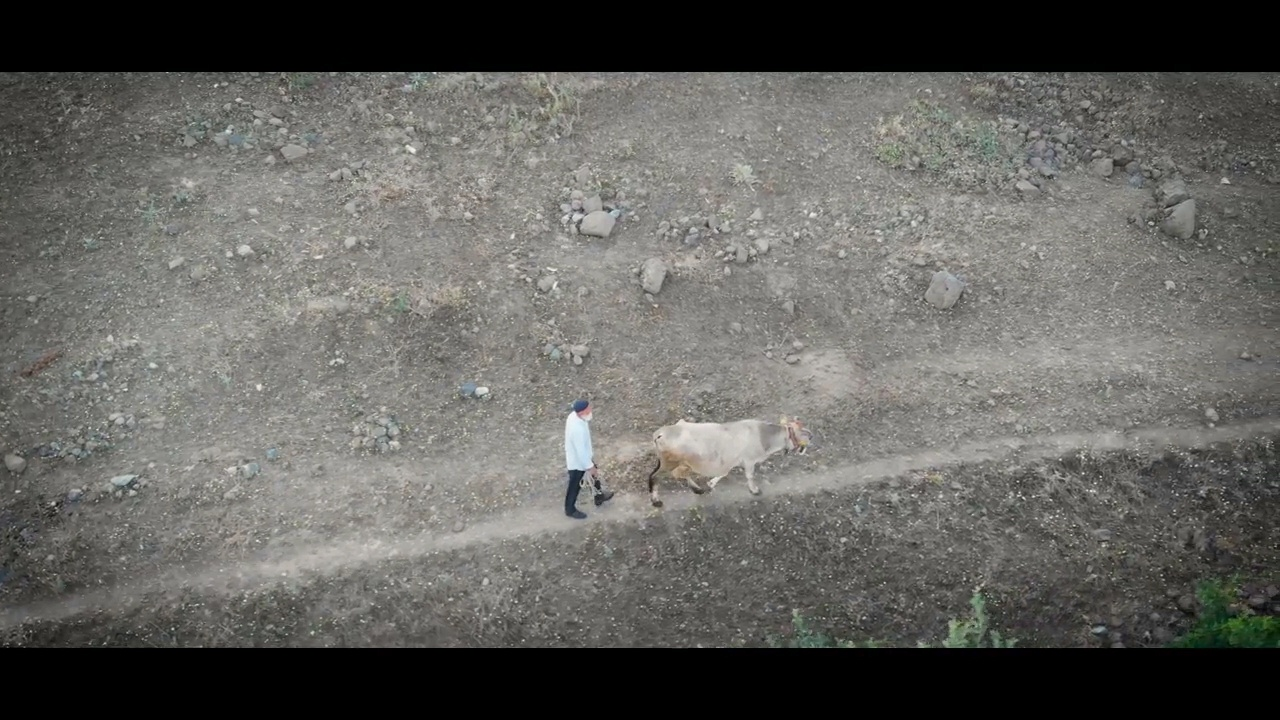insan: (564, 395, 616, 522)
